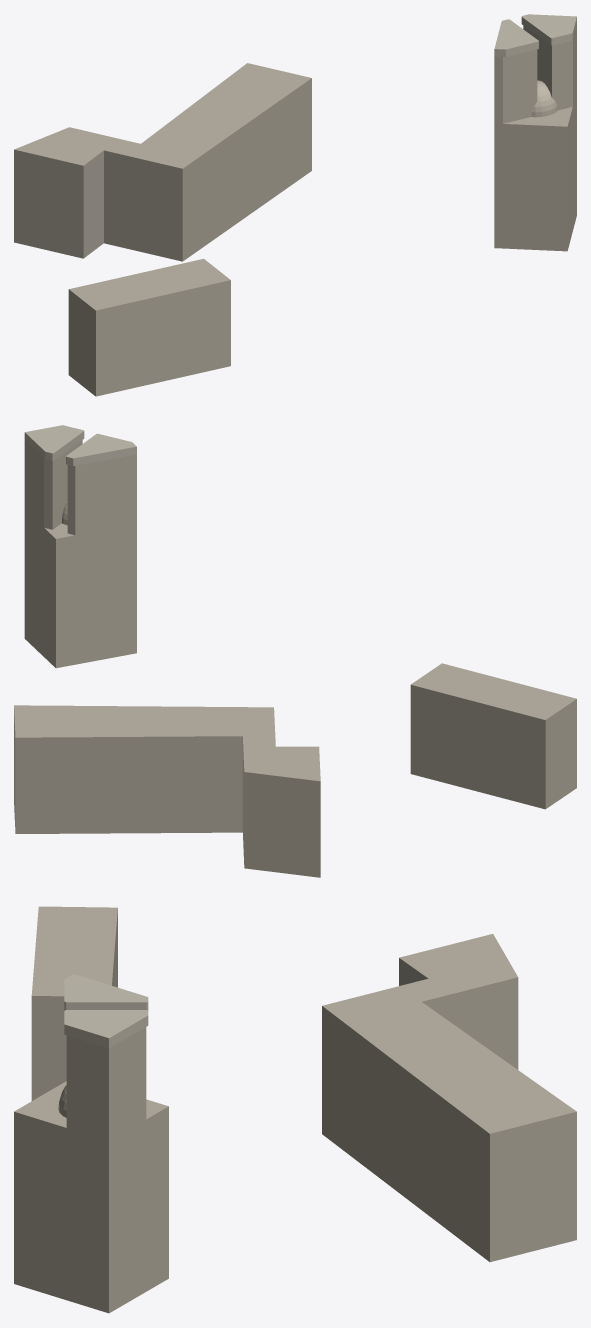
The model's file is senglea_59_32_mid.glb.
3 views of the same model, one above another, from view 1: azimuth 30°, elevation 25°; view 2: azimuth 150°, elevation 25°; view 3: azimuth 270°, elevation 25° (orthographic). The views are drawn at different scales.
Parts seen in each view (by area): view 1: geometry_0; view 2: geometry_0; view 3: geometry_0.
Part boxes in pixels (bbox=[...]): geometry_0: bbox=[14, 14, 576, 396]; geometry_0: bbox=[14, 425, 576, 877]; geometry_0: bbox=[14, 906, 576, 1313].
Bounding box in the file's own units: 71.24 × 31.98 × 49.6.
